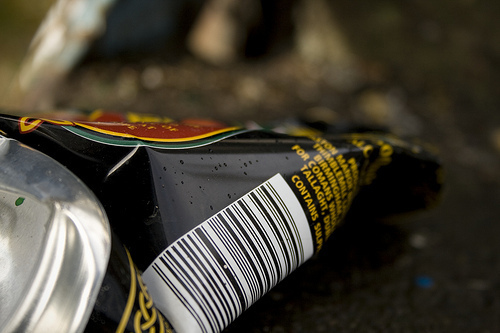litter: (1, 114, 442, 332)
